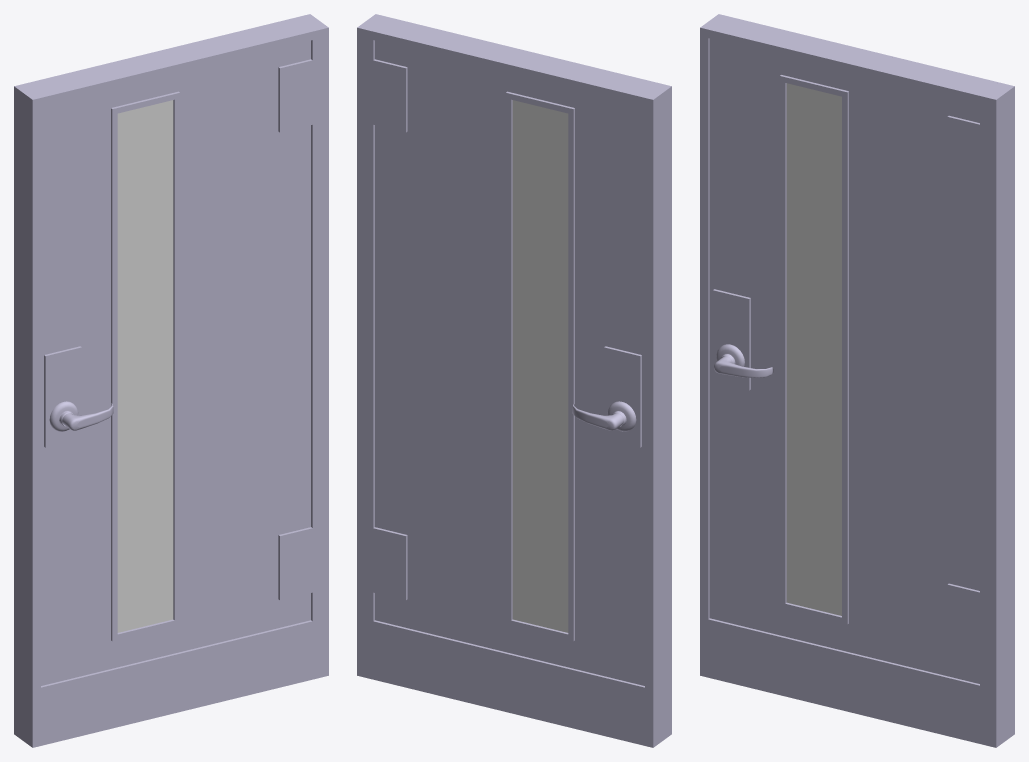
Rendered from doormain_low.fbx.
3 renders of one model, left to right at view 1: azimuth 30°, elevation 25°; view 2: azimuth 150°, elevation 25°; view 3: azimuth 330°, elevation 25°, orthographic.
Visible parts, largest first — view 1: Box033; view 2: Box033; view 3: Box033.
Boxes of the visible parts, x1,y1,x2,y2 form: Box033: [14, 14, 328, 747]; Box033: [357, 14, 671, 747]; Box033: [700, 14, 1014, 747].
Bounding box in the file's own units: 44 × 92 × 11.29.
